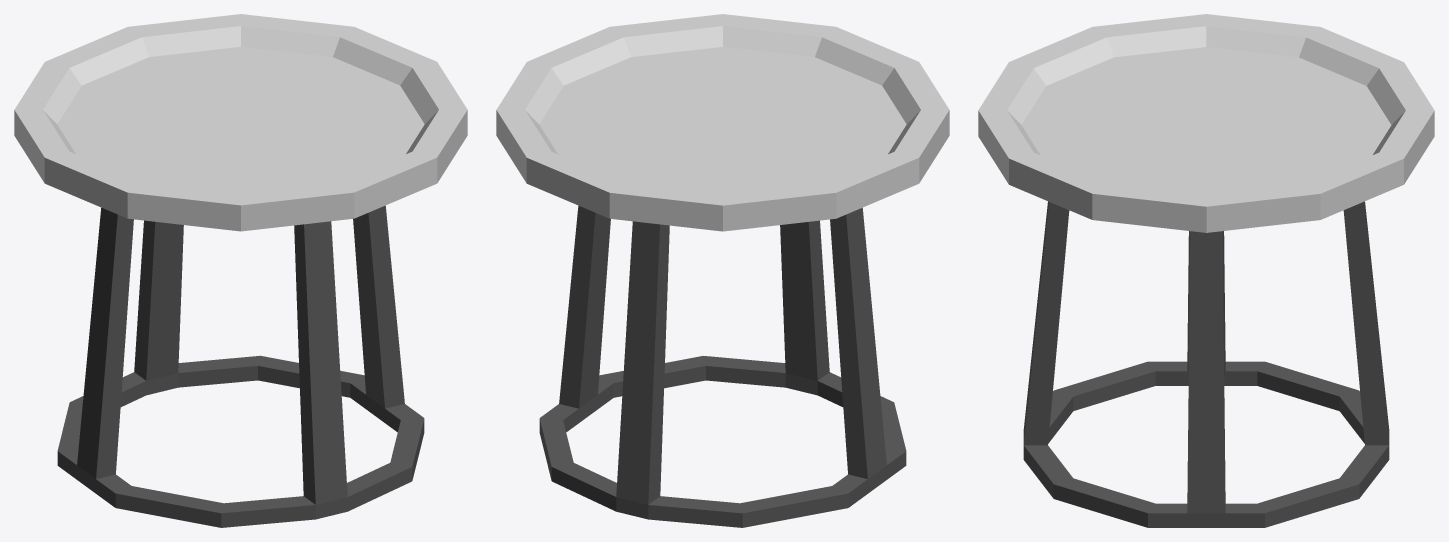
File: Int_Table07.fbx
3 views of the same model, side by side, from view 1: azimuth 30°, elevation 25°; view 2: azimuth 150°, elevation 25°; view 3: azimuth 270°, elevation 25° (orthographic).
Parts seen in each view (by area): view 1: Int_Table07; view 2: Int_Table07; view 3: Int_Table07.
Boxes of the visible parts, left/top/right/bottom form: Int_Table07: left=14, top=14, right=467, bottom=527; Int_Table07: left=496, top=14, right=949, bottom=527; Int_Table07: left=978, top=14, right=1434, bottom=527.
Size of what is drawn, in the model's own units: 96.81 by 96.81 by 80.02.
